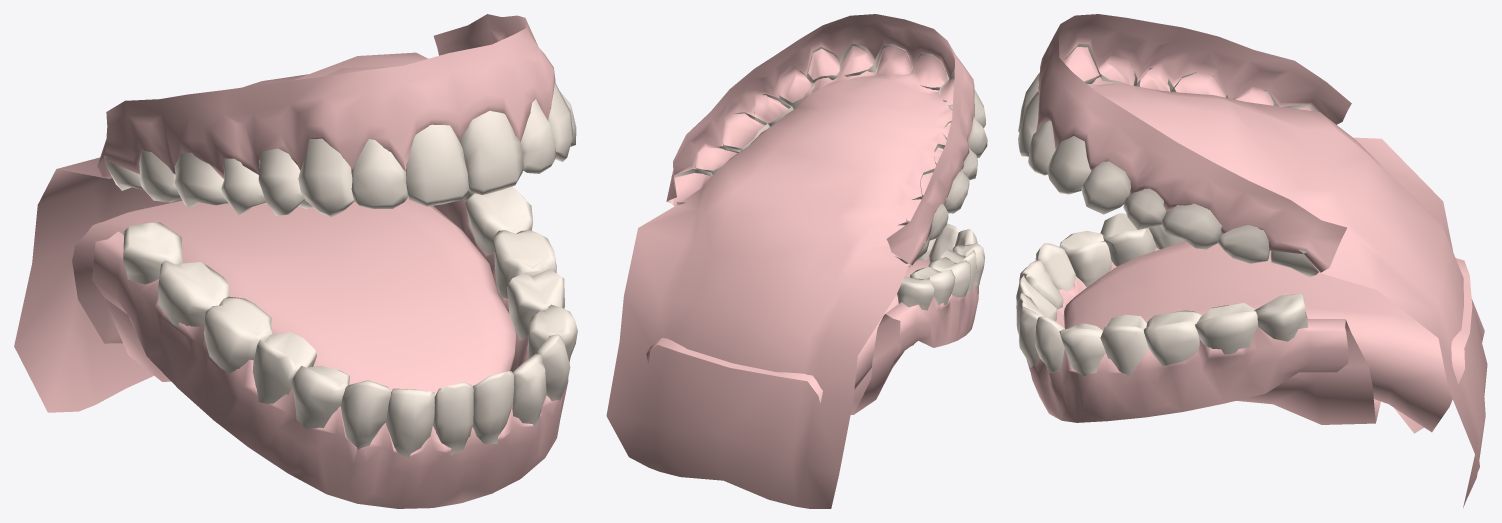
The model's file is bocas.gltf.
3 views of the same model, side by side, from view 1: azimuth 30°, elevation 25°; view 2: azimuth 150°, elevation 25°; view 3: azimuth 270°, elevation 25° (orthographic). The views are drawn at different scales.
Parts seen in each view (by area): view 1: boca.001; view 2: boca.001; view 3: boca.001.
Part boxes in pixels (x1,y1,x2,y2): boca.001: (14, 14, 577, 508); boca.001: (606, 14, 987, 508); boca.001: (1016, 14, 1487, 507).
Size of the model in its own units: 15.29 by 19.36 by 19.98.
